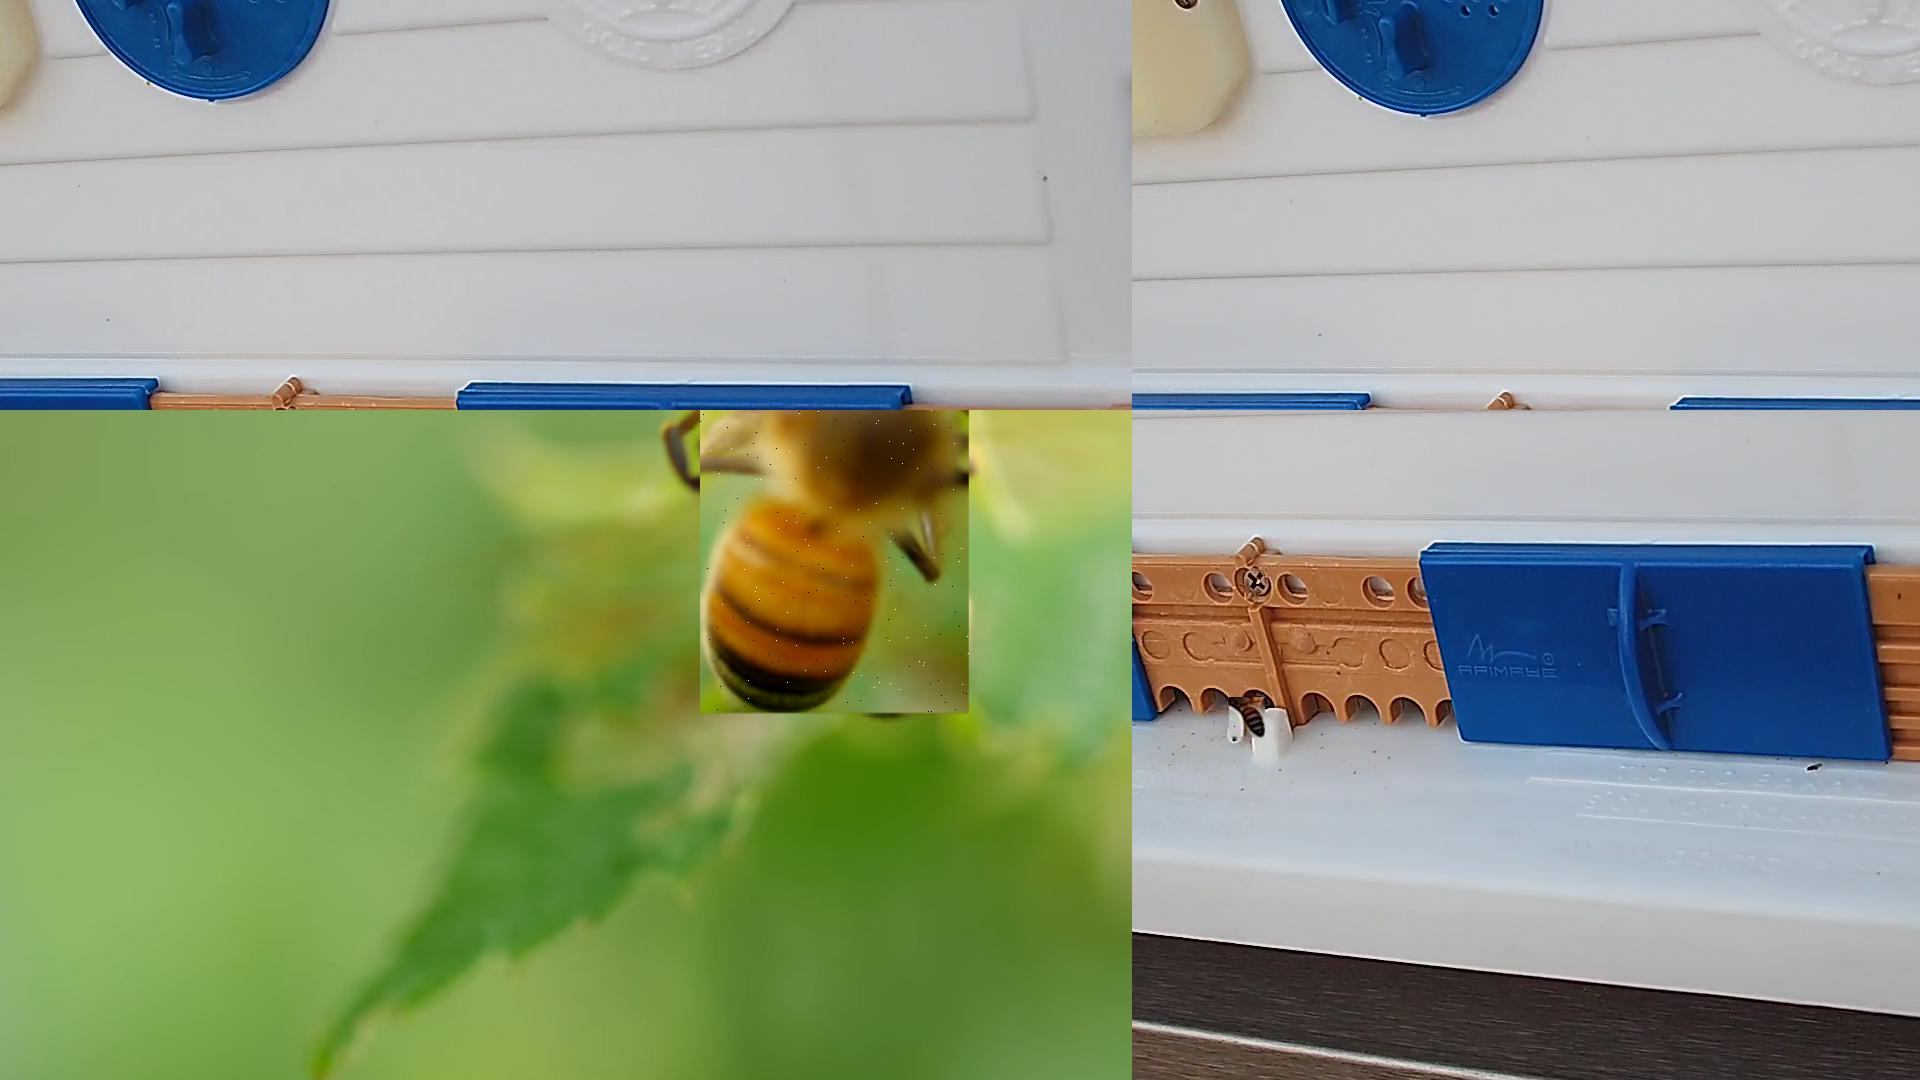bee: (700, 410, 971, 717), (1229, 698, 1266, 741)
